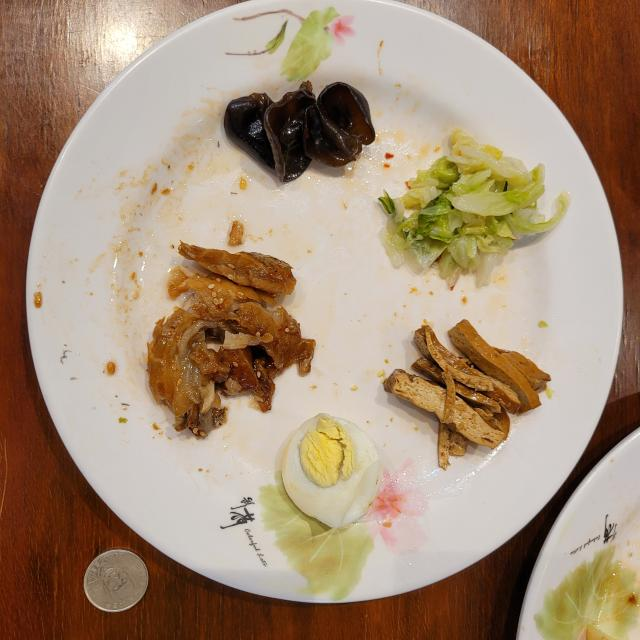Kabayaki sea bream fillet: (148, 242, 315, 438)
cabbage: (380, 129, 569, 285)
coin: (84, 549, 149, 612)
